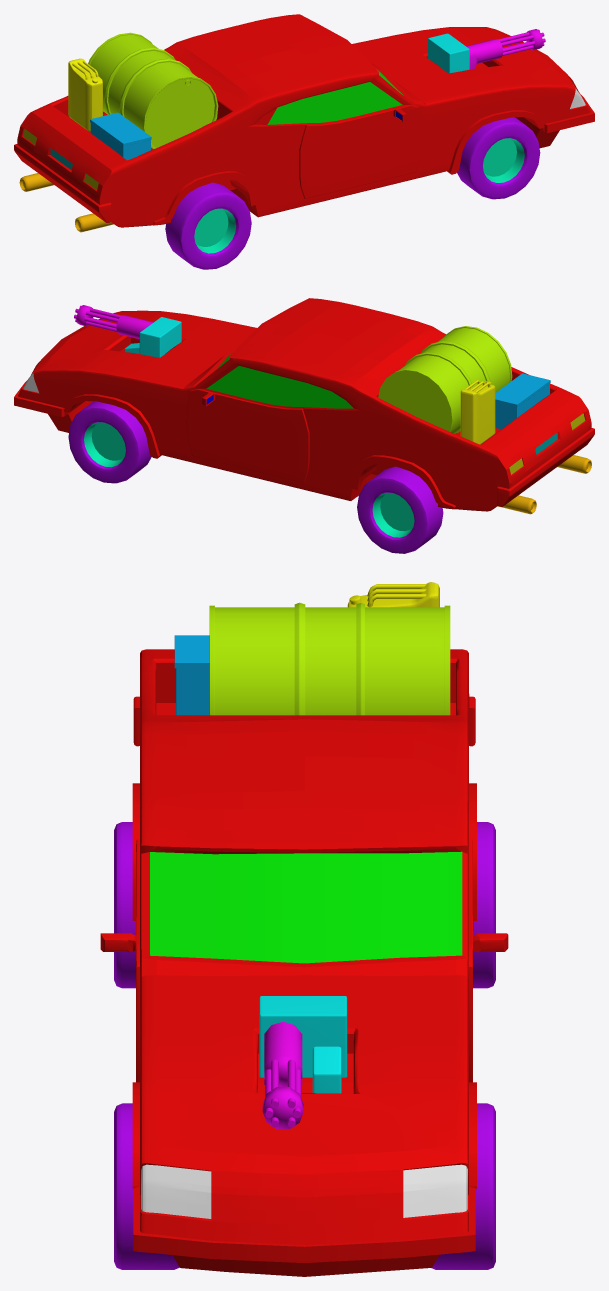
The model's file is Finalcar.fbx.
3 views of the same model, one above another, from view 1: azimuth 30°, elevation 25°; view 2: azimuth 150°, elevation 25°; view 3: azimuth 270°, elevation 25° (orthographic). The views are drawn at different scales.
Visible parts, largest first — view 1: polySurface10, exhaustgunitems, back2, front2; view 2: polySurface10, exhaustgunitems, back1, front1; view 3: polySurface10, exhaustgunitems, front1, front2, back1, back2.
Part boxes in pixels (bbox=[...]): polySurface10: bbox=[14, 14, 594, 227]; exhaustgunitems: bbox=[19, 29, 545, 232]; back2: bbox=[165, 182, 251, 269]; front2: bbox=[457, 117, 540, 199]; polySurface10: bbox=[14, 298, 594, 511]; exhaustgunitems: bbox=[74, 305, 591, 514]; back1: bbox=[357, 466, 443, 553]; front1: bbox=[68, 401, 151, 483]; polySurface10: bbox=[100, 649, 508, 1276]; exhaustgunitems: bbox=[174, 582, 450, 1129]; front1: bbox=[431, 1103, 495, 1269]; front2: bbox=[114, 1103, 179, 1269]; back1: bbox=[473, 822, 495, 988]; back2: bbox=[114, 822, 135, 988].
Bounding box in the file's own units: 29.8 × 9.9 × 10.2.
